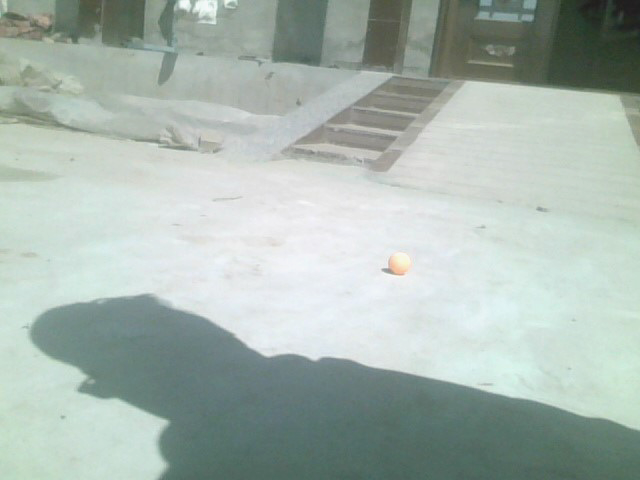ball: (388, 255, 407, 276)
